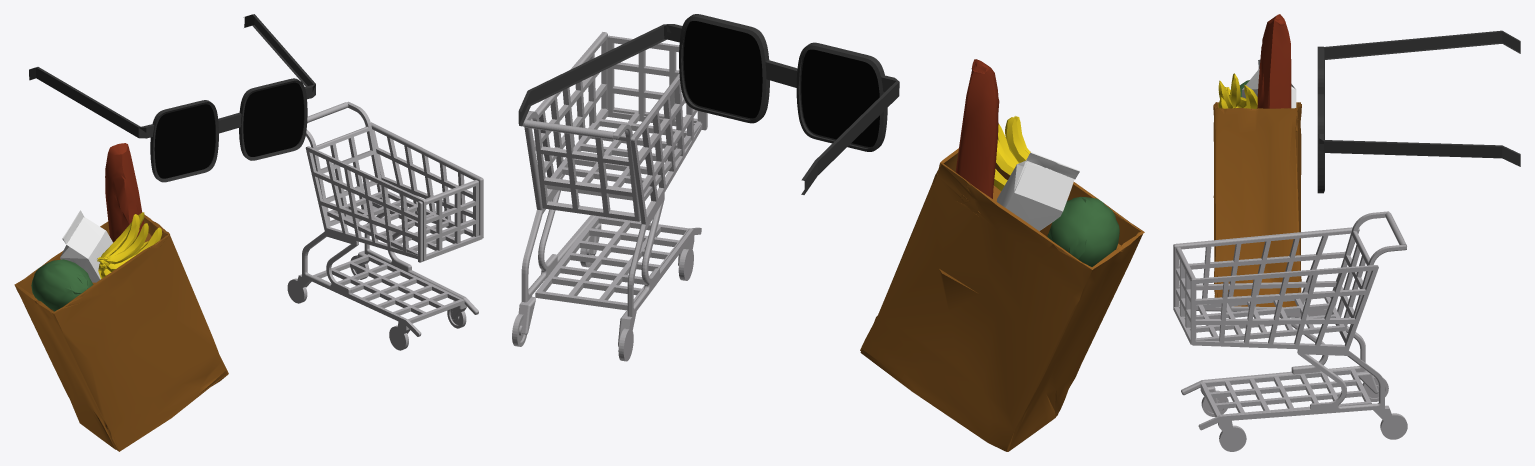
File: compras.glb
3 views of the same model, side by side, from view 1: azimuth 30°, elevation 25°; view 2: azimuth 150°, elevation 25°; view 3: azimuth 270°, elevation 25° (orthographic). The views are drawn at different scales.
Visible parts, largest first — view 1: bolsa de comida, carrito de compras, lentes.001; view 2: bolsa de comida, carrito de compras, lentes.001; view 3: carrito de compras, bolsa de comida, lentes.001.
Part boxes in pixels (<box>): bolsa de comida: <box>14,143,228,451</box>; carrito de compras: <box>287,101,483,350</box>; lentes.001: <box>29,14,315,182</box>; bolsa de comida: <box>860,59,1144,451</box>; carrito de compras: <box>512,32,707,361</box>; lentes.001: <box>518,14,899,194</box>; carrito de compras: <box>1173,211,1407,451</box>; bolsa de comida: <box>1213,14,1301,307</box>; lentes.001: <box>1317,30,1520,193</box>.
Bounding box in the file's own units: 2.25 × 1.45 × 1.48.
